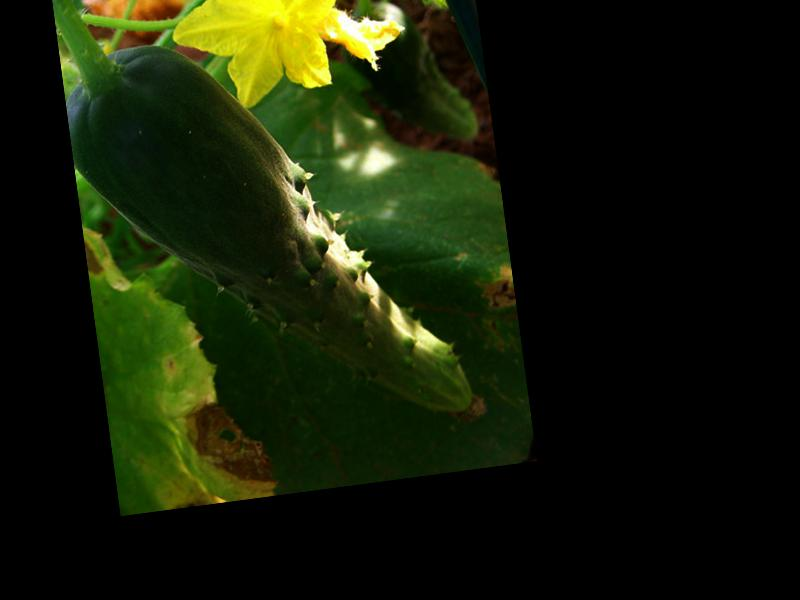Cucumber: (61, 7, 488, 467)
